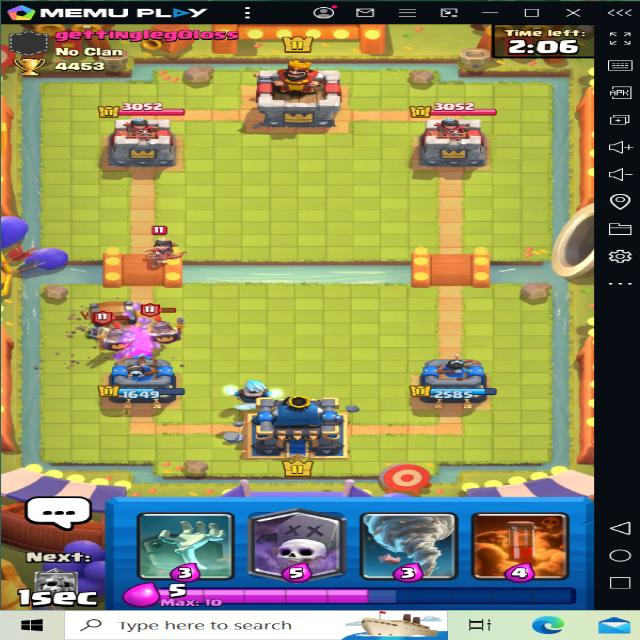Guards: (82, 312, 136, 354), (144, 304, 194, 348)
Princess: (134, 221, 192, 271)
